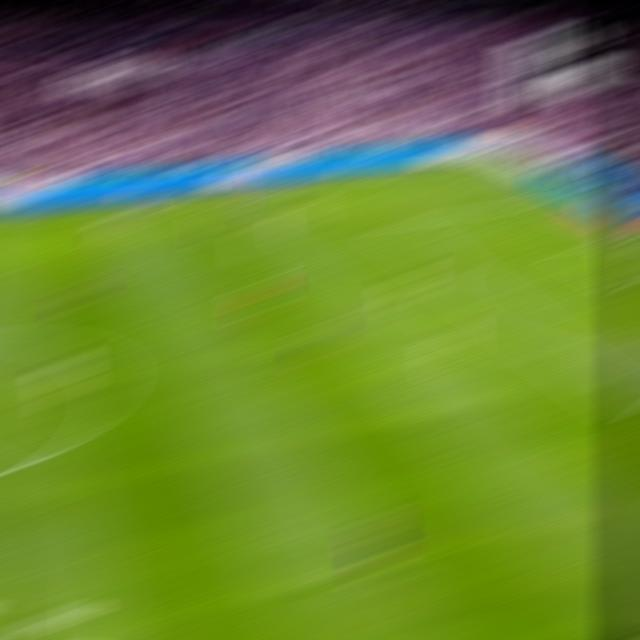bigarea_top_inner: (374, 221, 404, 227)
bigarea_top_outter: (541, 193, 572, 200)
bottom_arc_area_intersection: (538, 345, 572, 358)
corner: (470, 160, 502, 162)
smallarea_top_inner: (559, 244, 589, 247)
top_arc_area_intersection: (437, 269, 469, 277)
